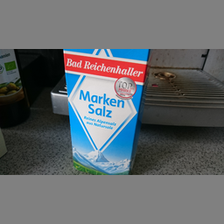spices: (63, 49, 150, 174)
